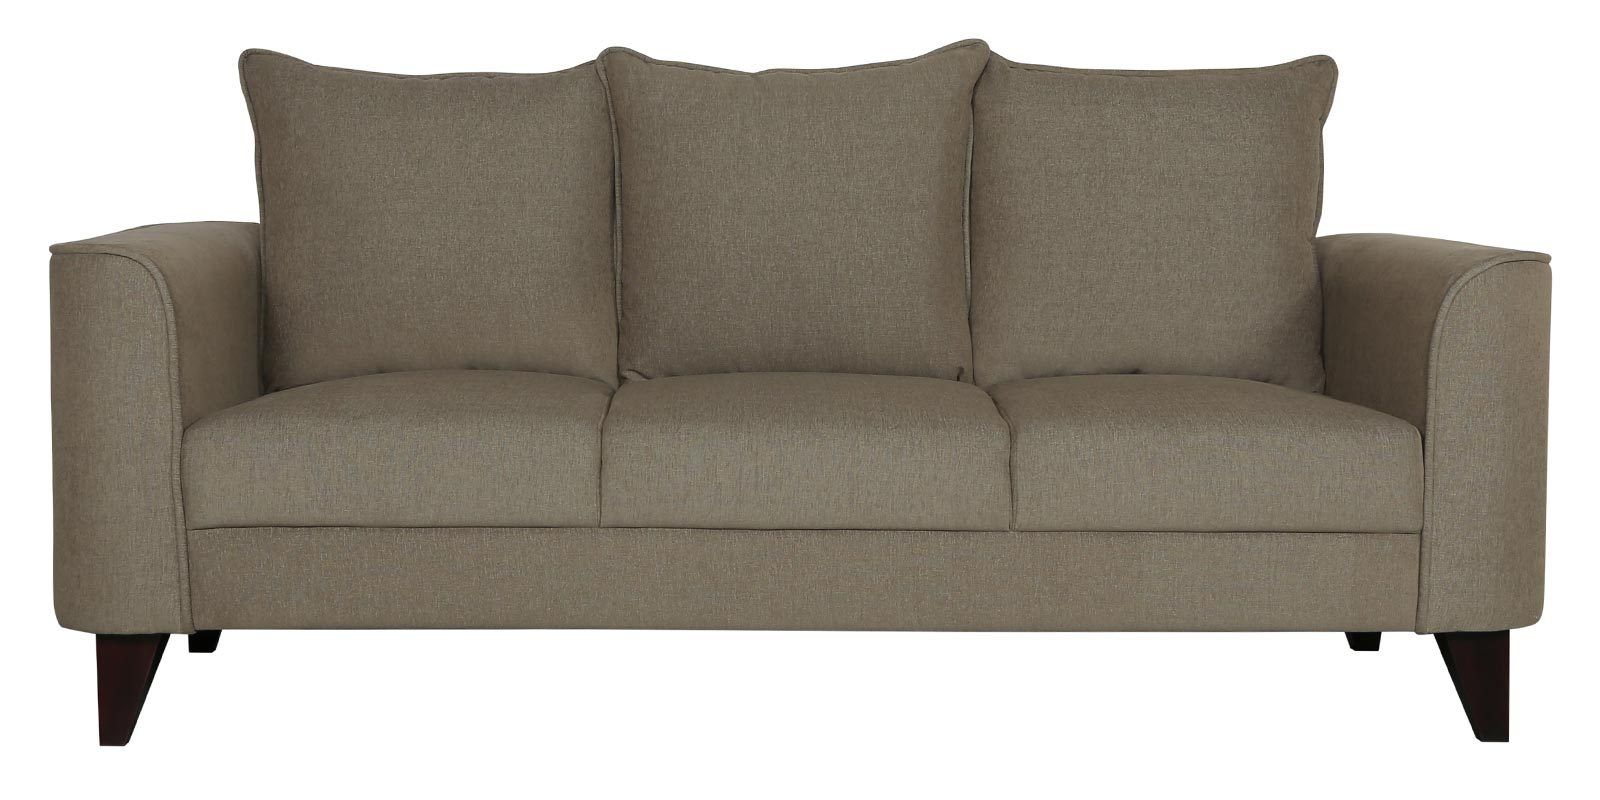Lara Three Seater Sofa in Sandy Brown Colour by CasaCraft: (48, 36, 1552, 749)
